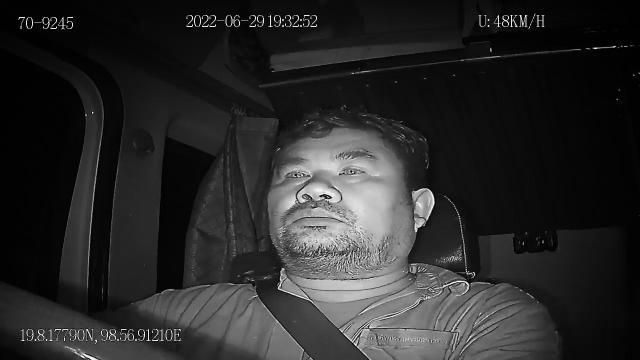SafeDriving: (272, 160, 312, 188), (333, 156, 374, 182)
Seatbelt: (252, 276, 374, 360)
